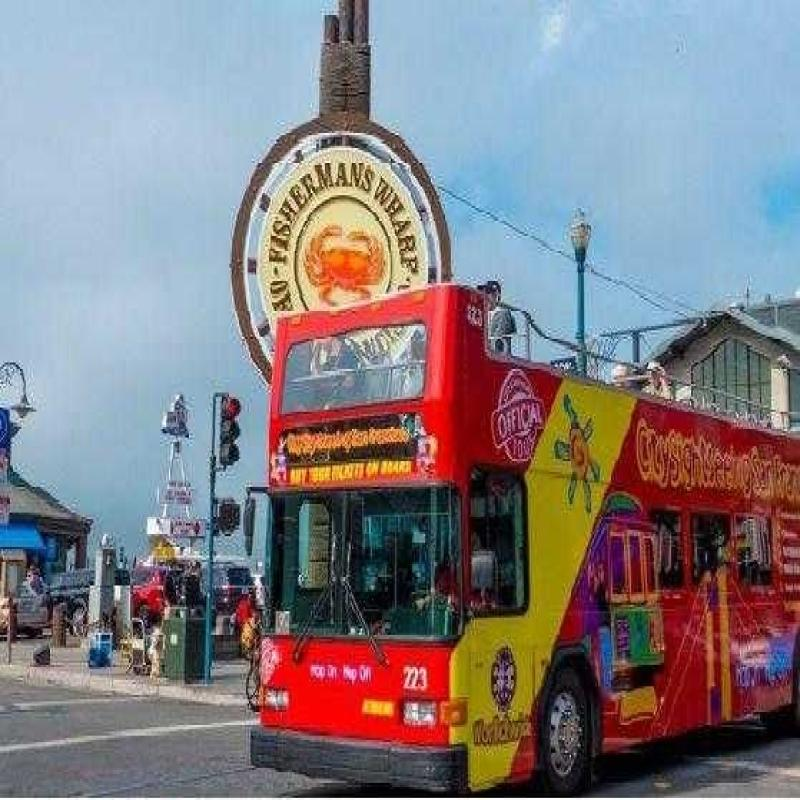bus: (255, 270, 800, 800)
